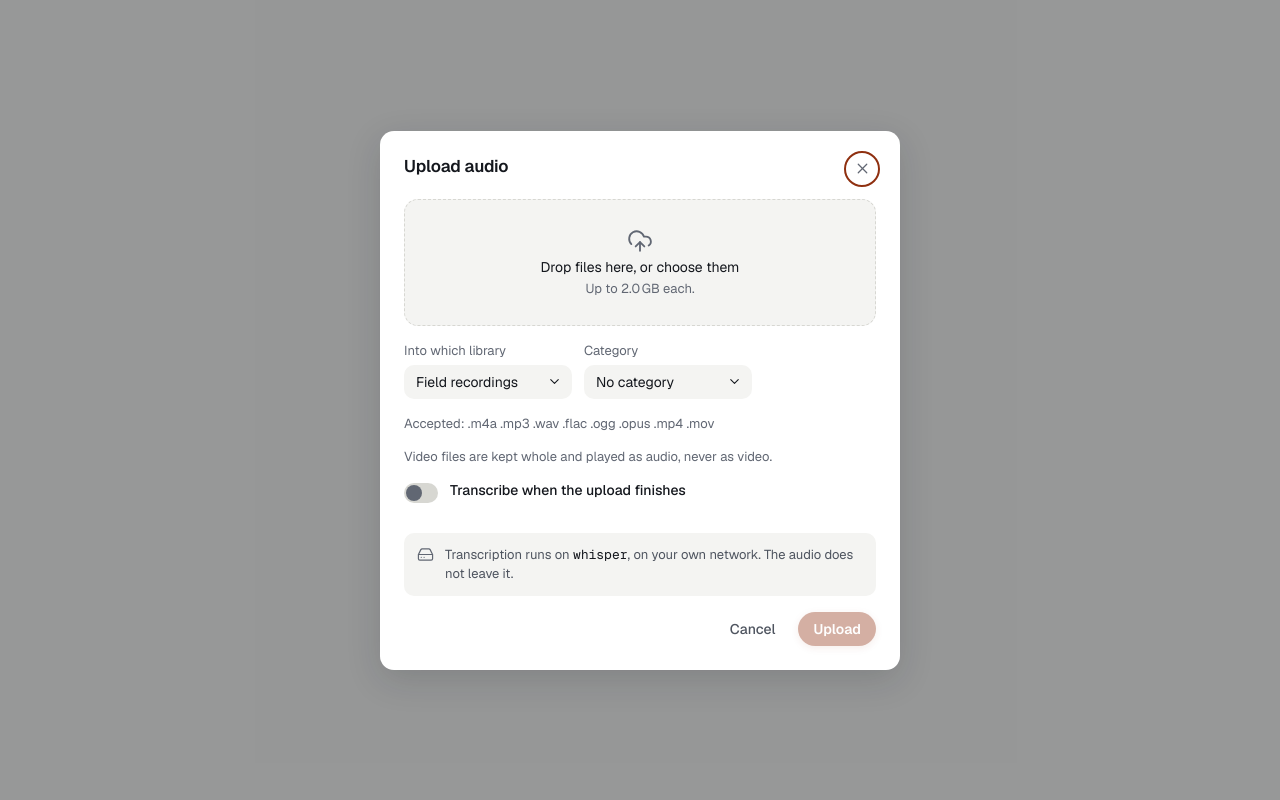
Test: the destination › drops the category when the library changes, since the id means nothing there
What coordinates should you click on to do the following:
click the dropdown labelled "No category"
I would click on:
 (668, 382)
Its box is top-left (584, 364), bottom-right (752, 398).
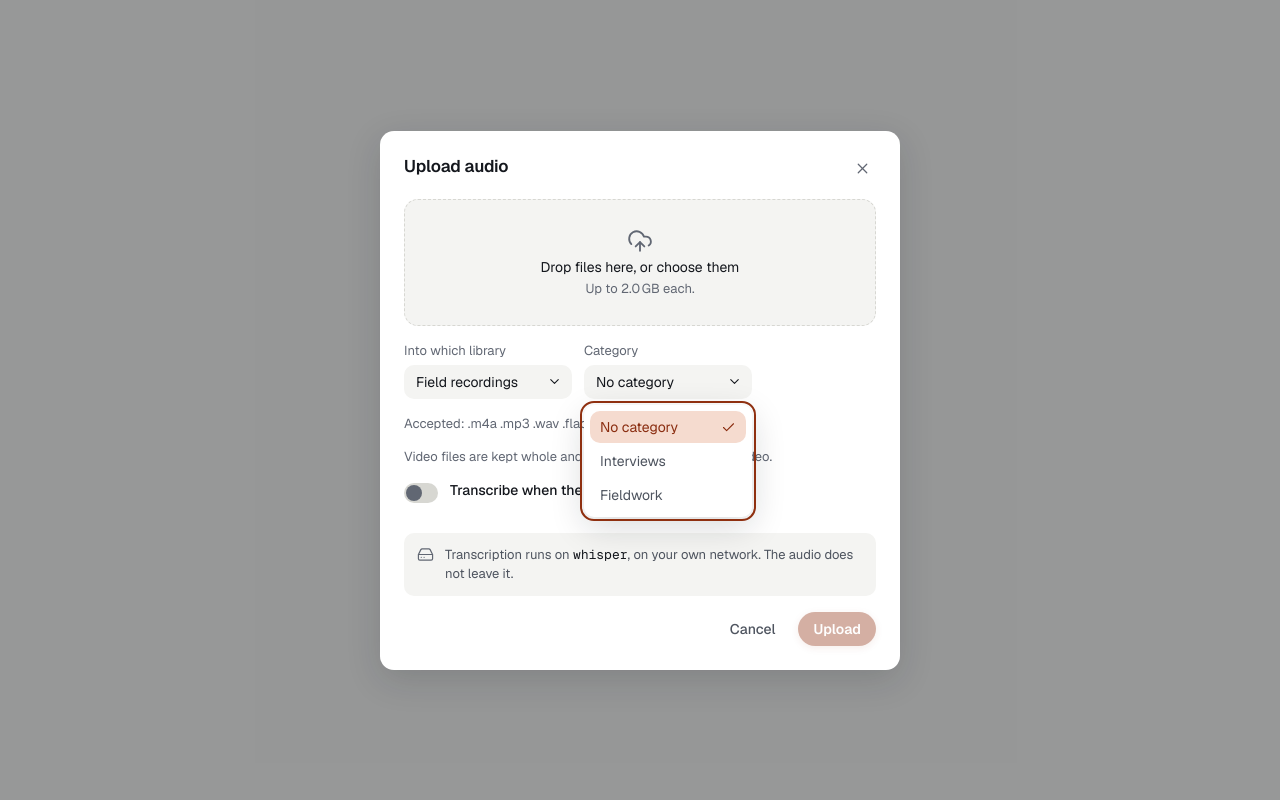
What coordinates should you click on to do the following:
click the option "Interviews"
I would click on:
 (633, 461)
Its box is top-left (600, 452), bottom-right (666, 470).
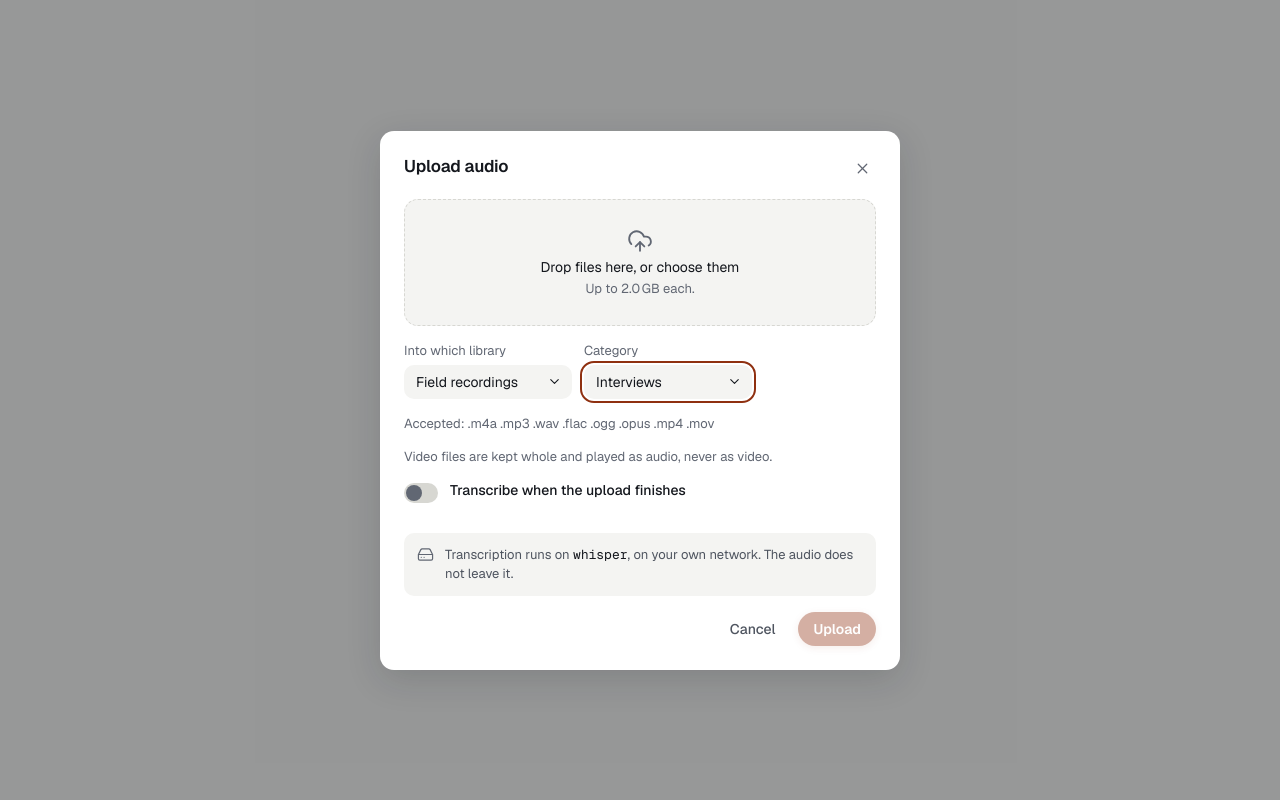
What coordinates should you click on to do the following:
click the dropdown named "into which library"
I would click on:
 (488, 382)
Its box is top-left (404, 364), bottom-right (572, 398).
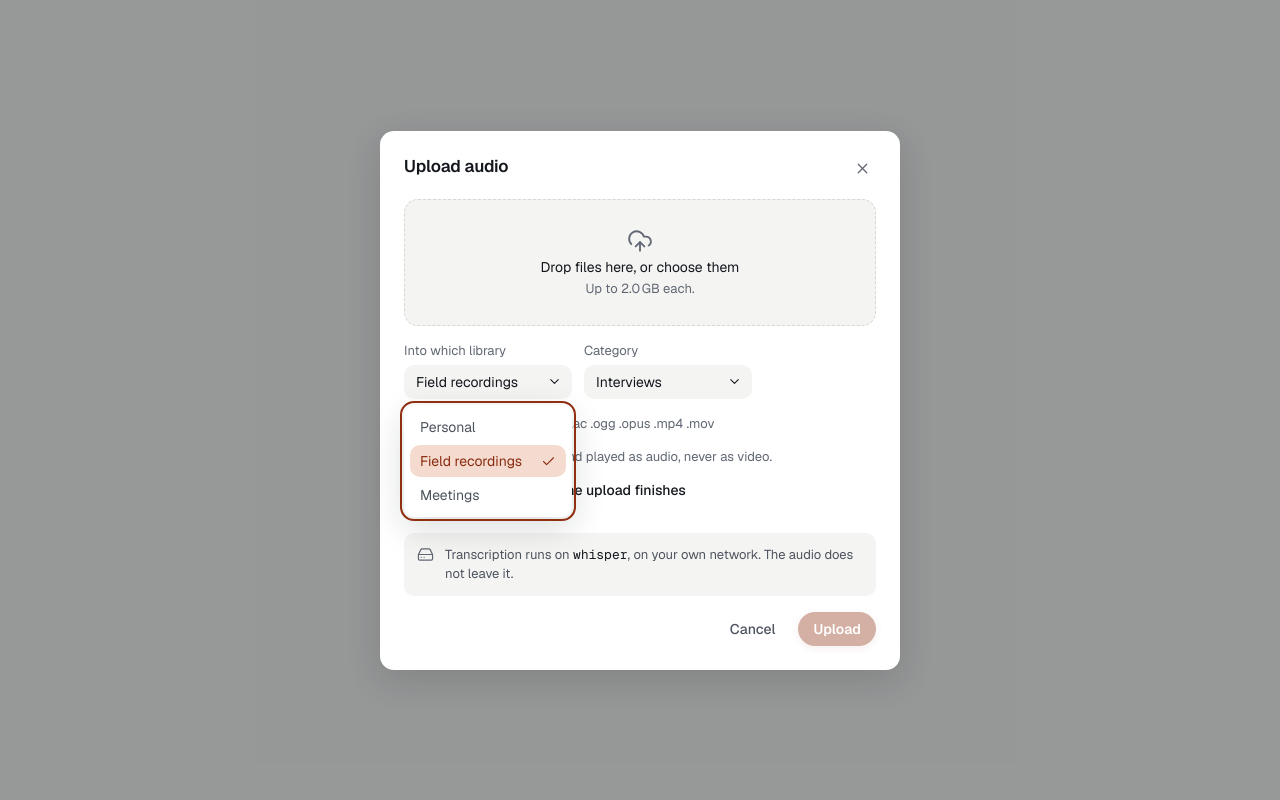
What coordinates should you click on to do the following:
click the option "Personal"
I would click on:
 (448, 427)
Its box is top-left (420, 418), bottom-right (476, 436).
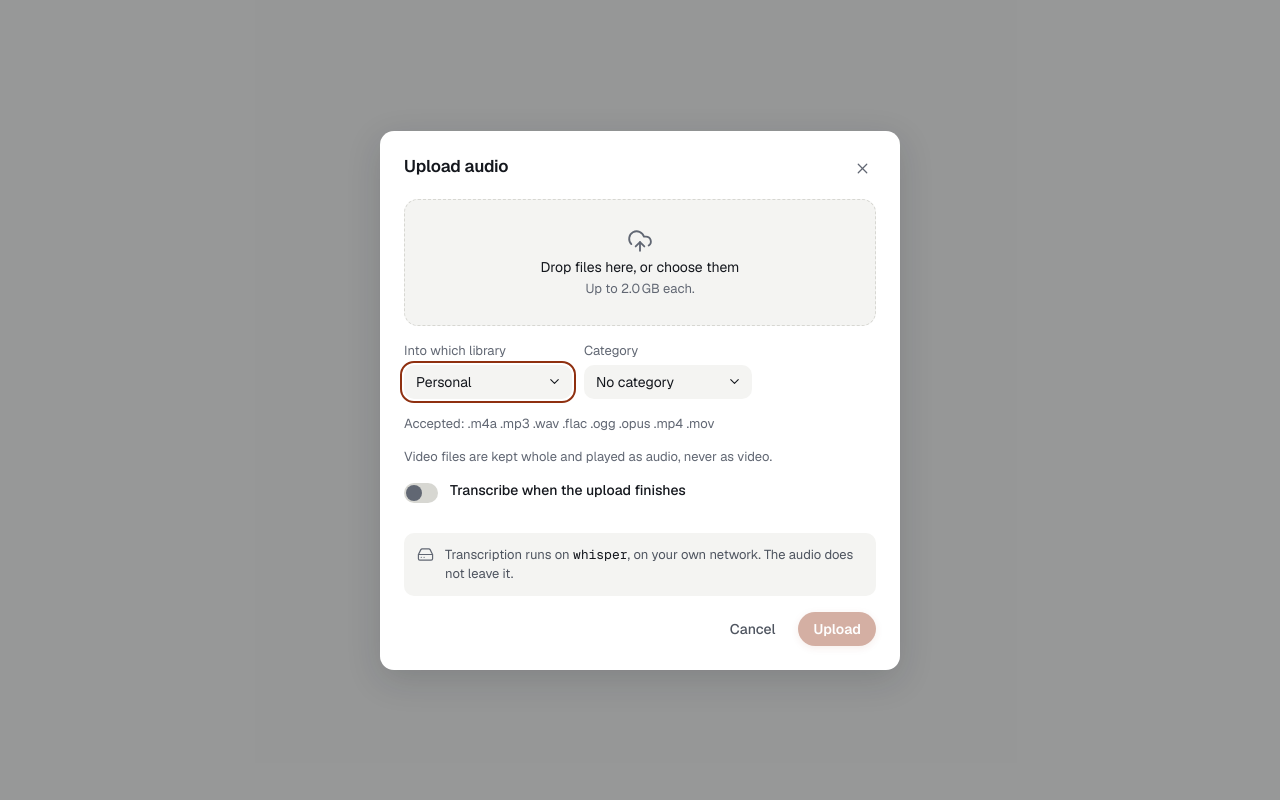
Expected: the dropdown labelled "No category" is shown, top-left (584, 364), bottom-right (752, 398)
